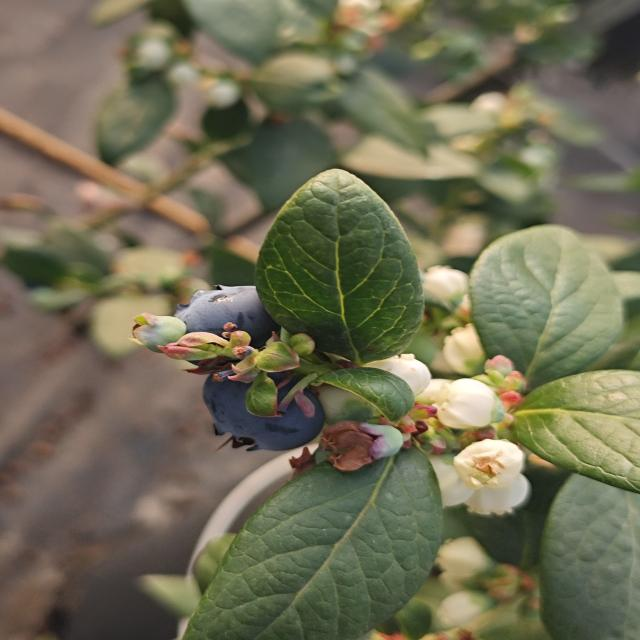ripe: (206, 363, 331, 447), (170, 280, 280, 344)
